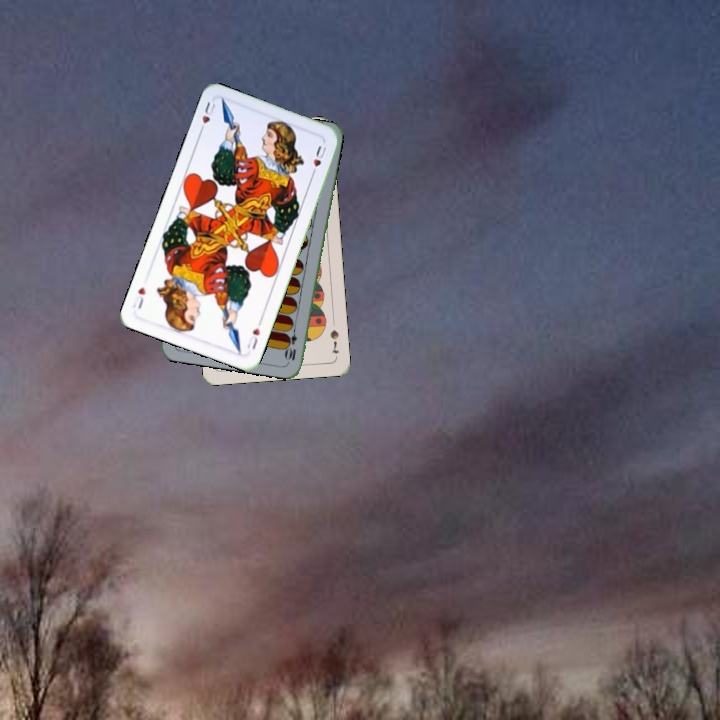E10: (283, 322, 299, 363)
HU: (195, 97, 218, 136), (243, 316, 265, 353)
S7: (326, 326, 342, 356)
